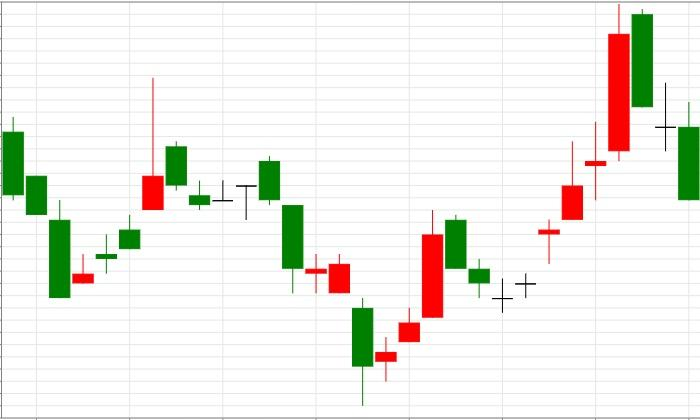shooting_star_fall: (72, 77, 164, 284)
